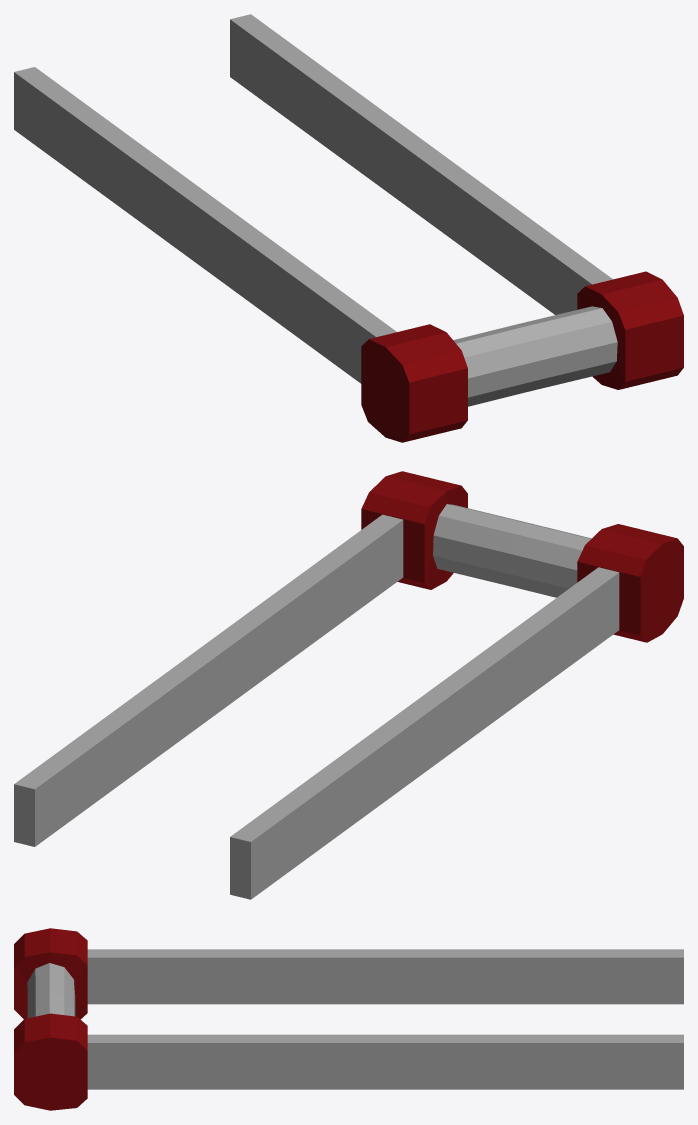
The model's file is power_tumbler2.fbx.
The picture shows the model from 3 angles, top to bottom: view 1: azimuth 30°, elevation 25°; view 2: azimuth 150°, elevation 25°; view 3: azimuth 270°, elevation 25°; orthographic projection. The views are drawn at different scales.
Parts seen in each view (by area): view 1: Tumbler; view 2: Tumbler; view 3: Tumbler.
Part boxes in pixels (bbox=[...]): Tumbler: bbox=[14, 14, 683, 442]; Tumbler: bbox=[14, 471, 683, 899]; Tumbler: bbox=[14, 928, 683, 1110].
Bounding box in the file's own units: 23.11 × 7.15 × 59.37.
